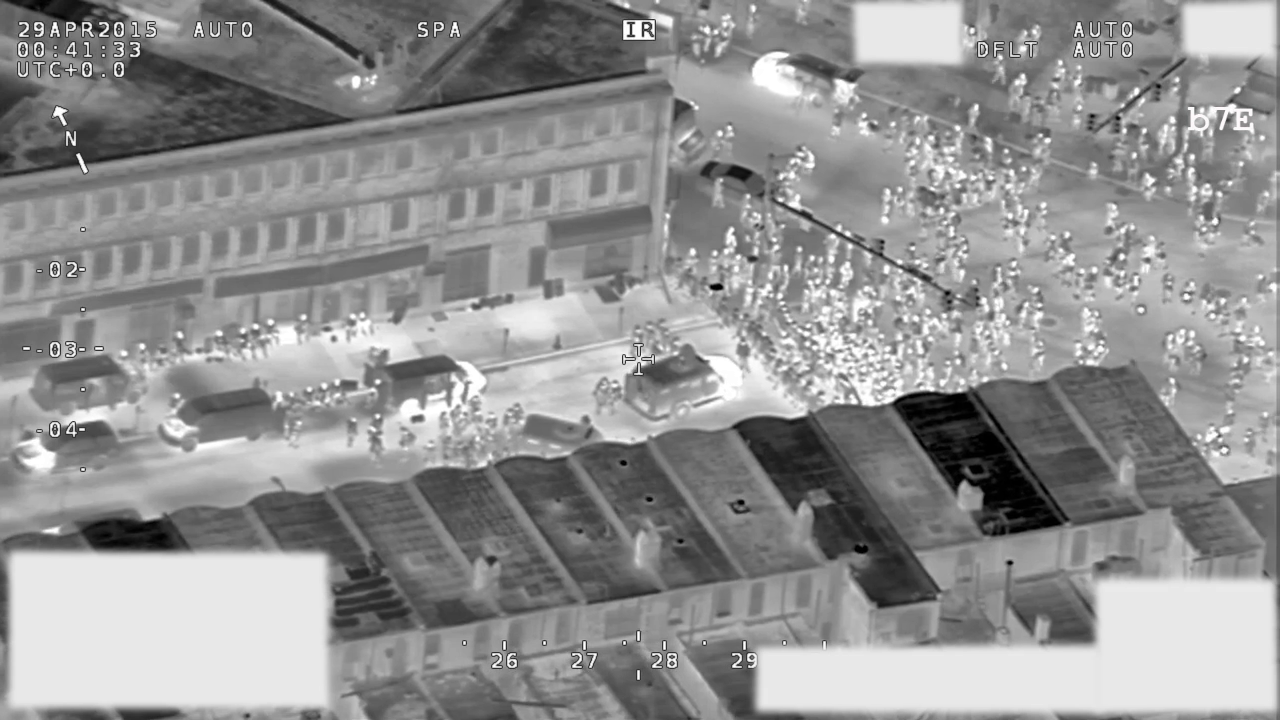vehicle: (621, 342, 750, 429), (747, 43, 871, 119), (362, 350, 490, 423), (153, 384, 282, 456), (28, 355, 147, 418), (11, 418, 127, 479), (695, 155, 786, 216)
